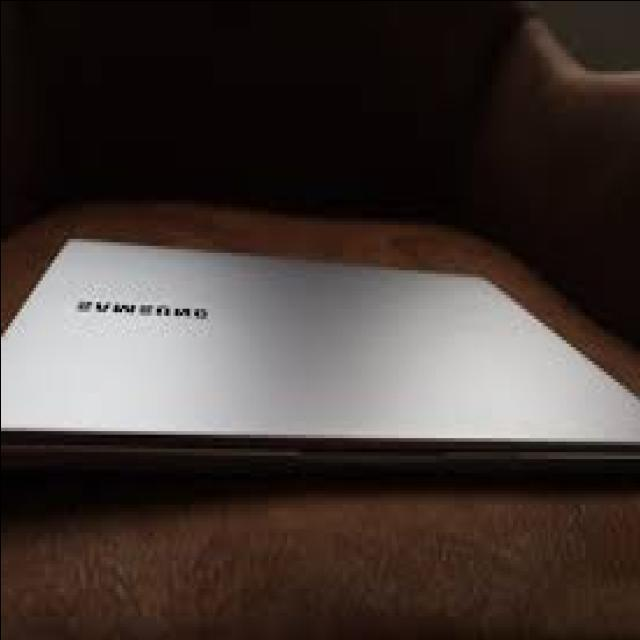laptop: (0, 234, 639, 481)
